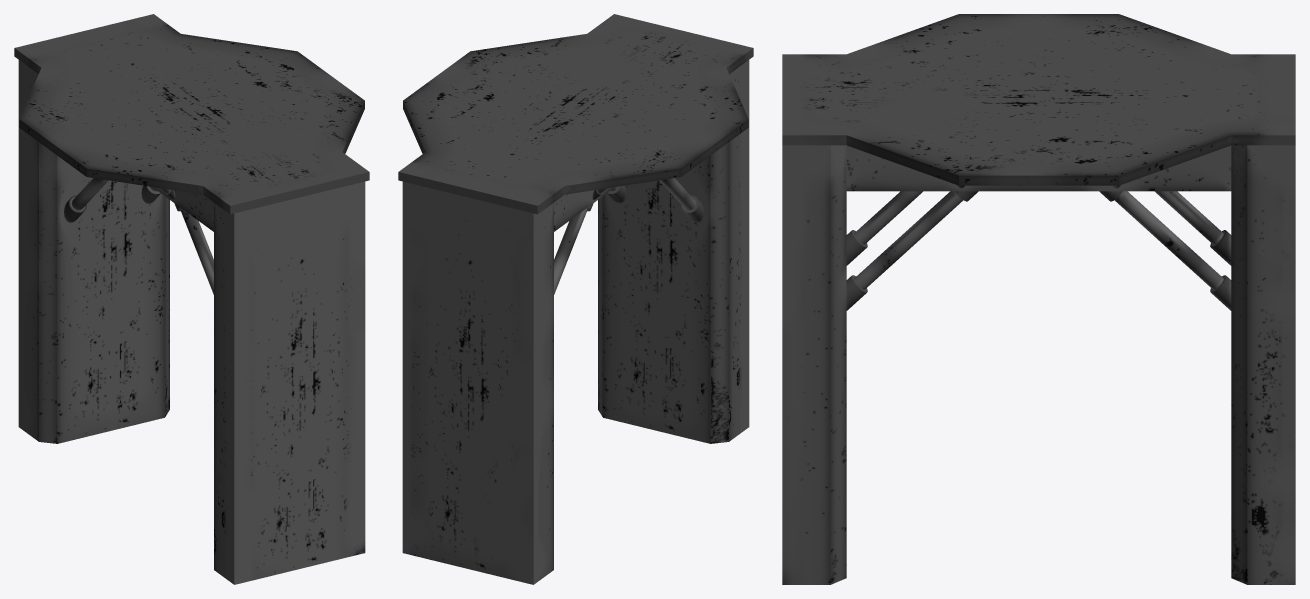
The model's file is Base_Ground_8x3_Bridge_V1.fbx.
The picture shows the model from 3 angles, left to right: view 1: azimuth 30°, elevation 25°; view 2: azimuth 150°, elevation 25°; view 3: azimuth 270°, elevation 25°; orthographic projection. The views are drawn at different scales.
Visible parts, largest first — view 1: Base Ground 8x3 Bridge V1; view 2: Base Ground 8x3 Bridge V1; view 3: Base Ground 8x3 Bridge V1.
Boxes of the visible parts, x1,y1,x2,y2 form: Base Ground 8x3 Bridge V1: [14, 14, 369, 584]; Base Ground 8x3 Bridge V1: [398, 14, 753, 584]; Base Ground 8x3 Bridge V1: [782, 14, 1295, 584].
Bounding box in the file's own units: 596 × 778 × 800.
